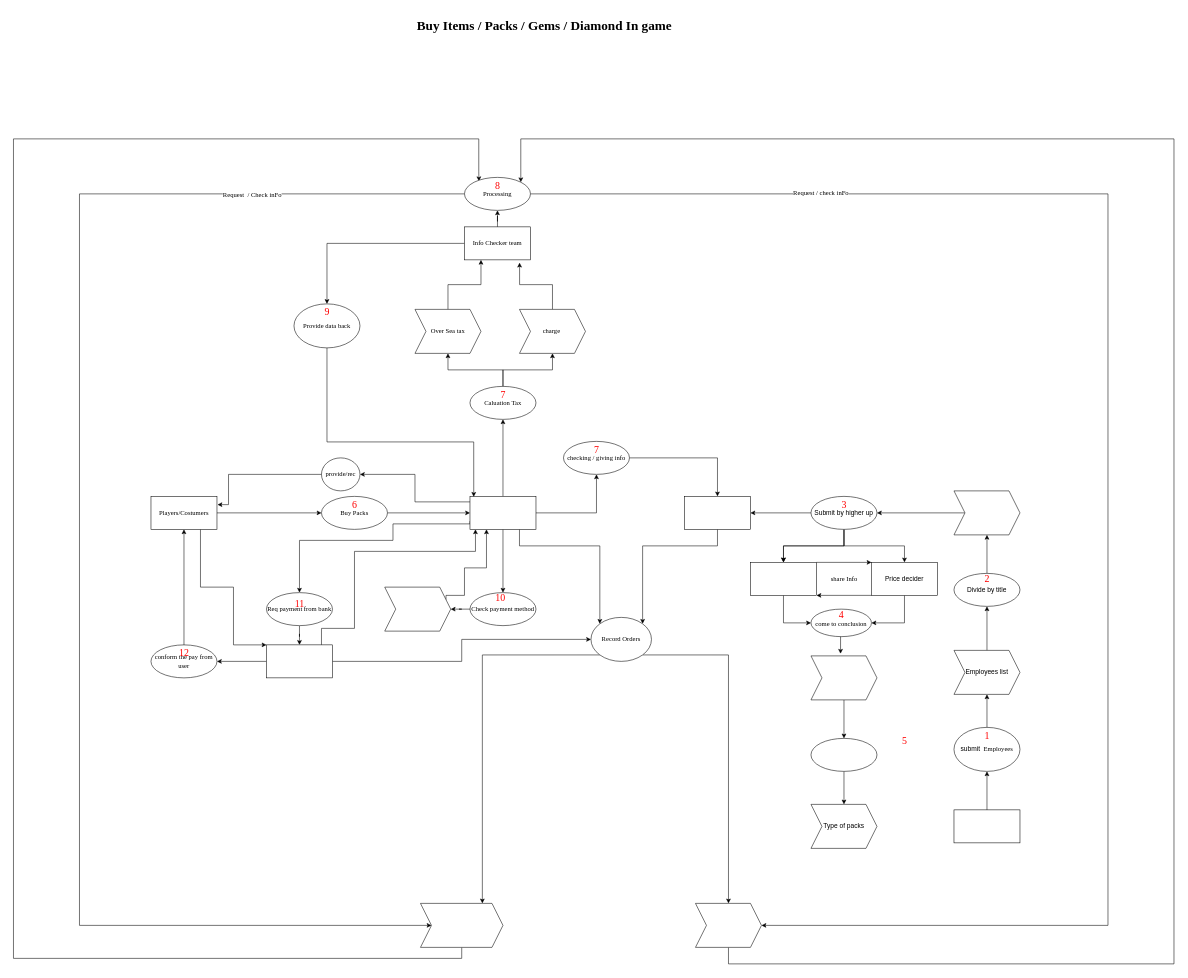
This 1188x978 diagram has some shape labels left out. Here are the shapes that lost their labels. From the top down, the centre of each, then its label:
At point (502, 512): "google play/appstore counter".
At point (717, 512): "Counter".
At point (986, 512): "Employees title".
At point (783, 578): "Pack Creator team".
At point (417, 609): "payment inFo".
At point (299, 661): "bank counter".
At point (843, 677): "Pack Product".
At point (843, 754): "Prepare pack".
At point (986, 826): "Get Employees".
At point (461, 925): "Pack info".
At point (728, 925): "Acc players info".
